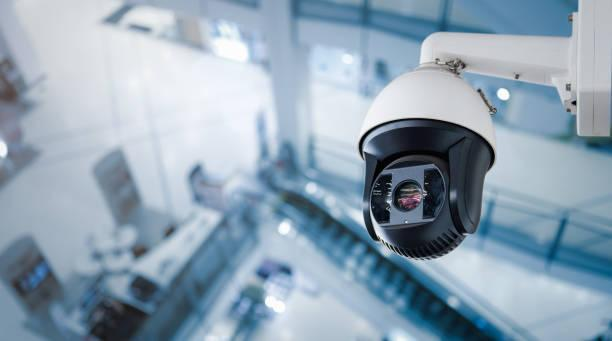camera: (336, 38, 511, 275)
